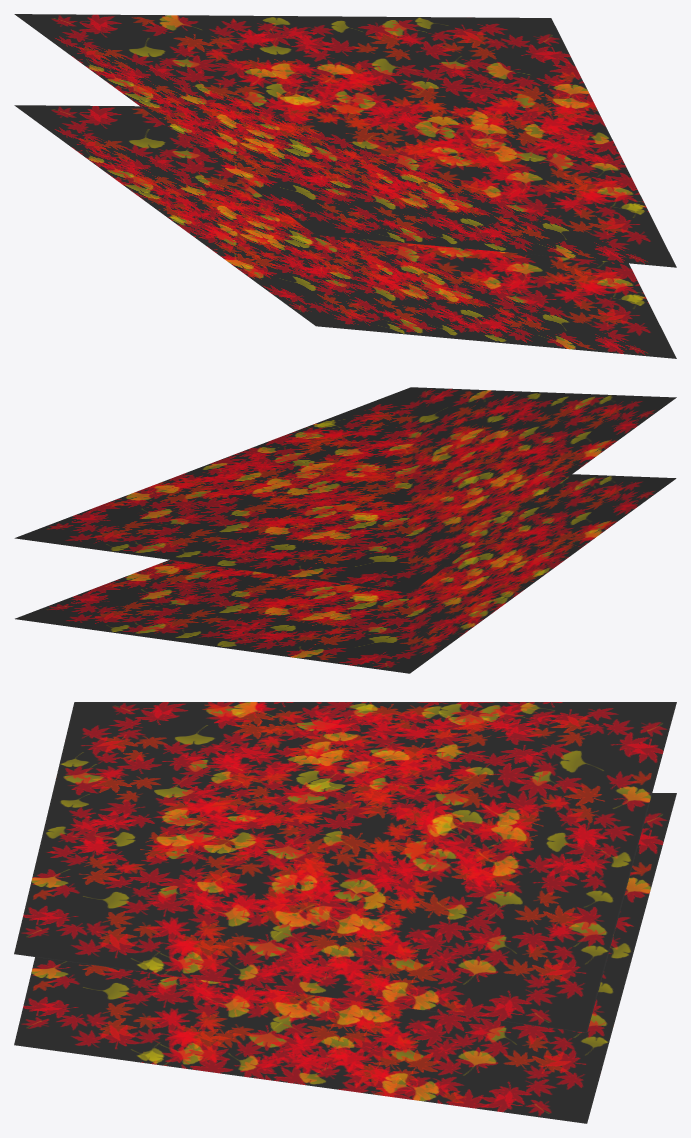
The model's file is CourseAki_CurveFloor_3_16.fbx.
3 views of the same model, one above another, from view 1: azimuth 30°, elevation 25°; view 2: azimuth 150°, elevation 25°; view 3: azimuth 270°, elevation 25° (orthographic). The views are drawn at different scales.
Parts seen in each view (by area): view 1: polySurface465; view 2: polySurface465; view 3: polySurface465.
Boxes of the visible parts, x1,y1,x2,y2 form: polySurface465: (14, 14, 676, 358); polySurface465: (14, 387, 676, 673); polySurface465: (14, 702, 676, 1123).
Bounding box in the file's own units: 5.65 × 2 × 6.6.
Materials: 1 (1 with a texture image).
